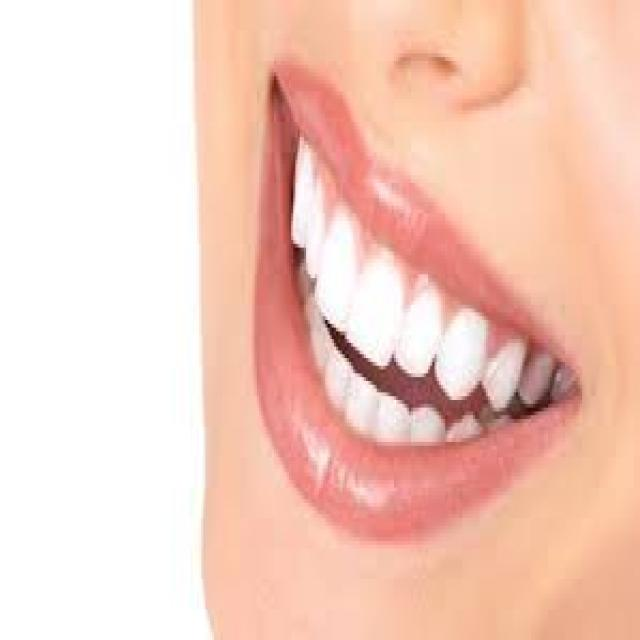tooth: (355, 259, 396, 343), (326, 210, 354, 316), (448, 304, 478, 388), (486, 339, 522, 400), (289, 137, 310, 240), (409, 286, 432, 370), (376, 392, 404, 442), (525, 354, 550, 408), (327, 347, 347, 408), (349, 377, 372, 427), (308, 183, 323, 259), (411, 404, 441, 442), (450, 412, 478, 434), (554, 366, 574, 396), (310, 328, 328, 358), (302, 297, 321, 324), (486, 411, 511, 423)
